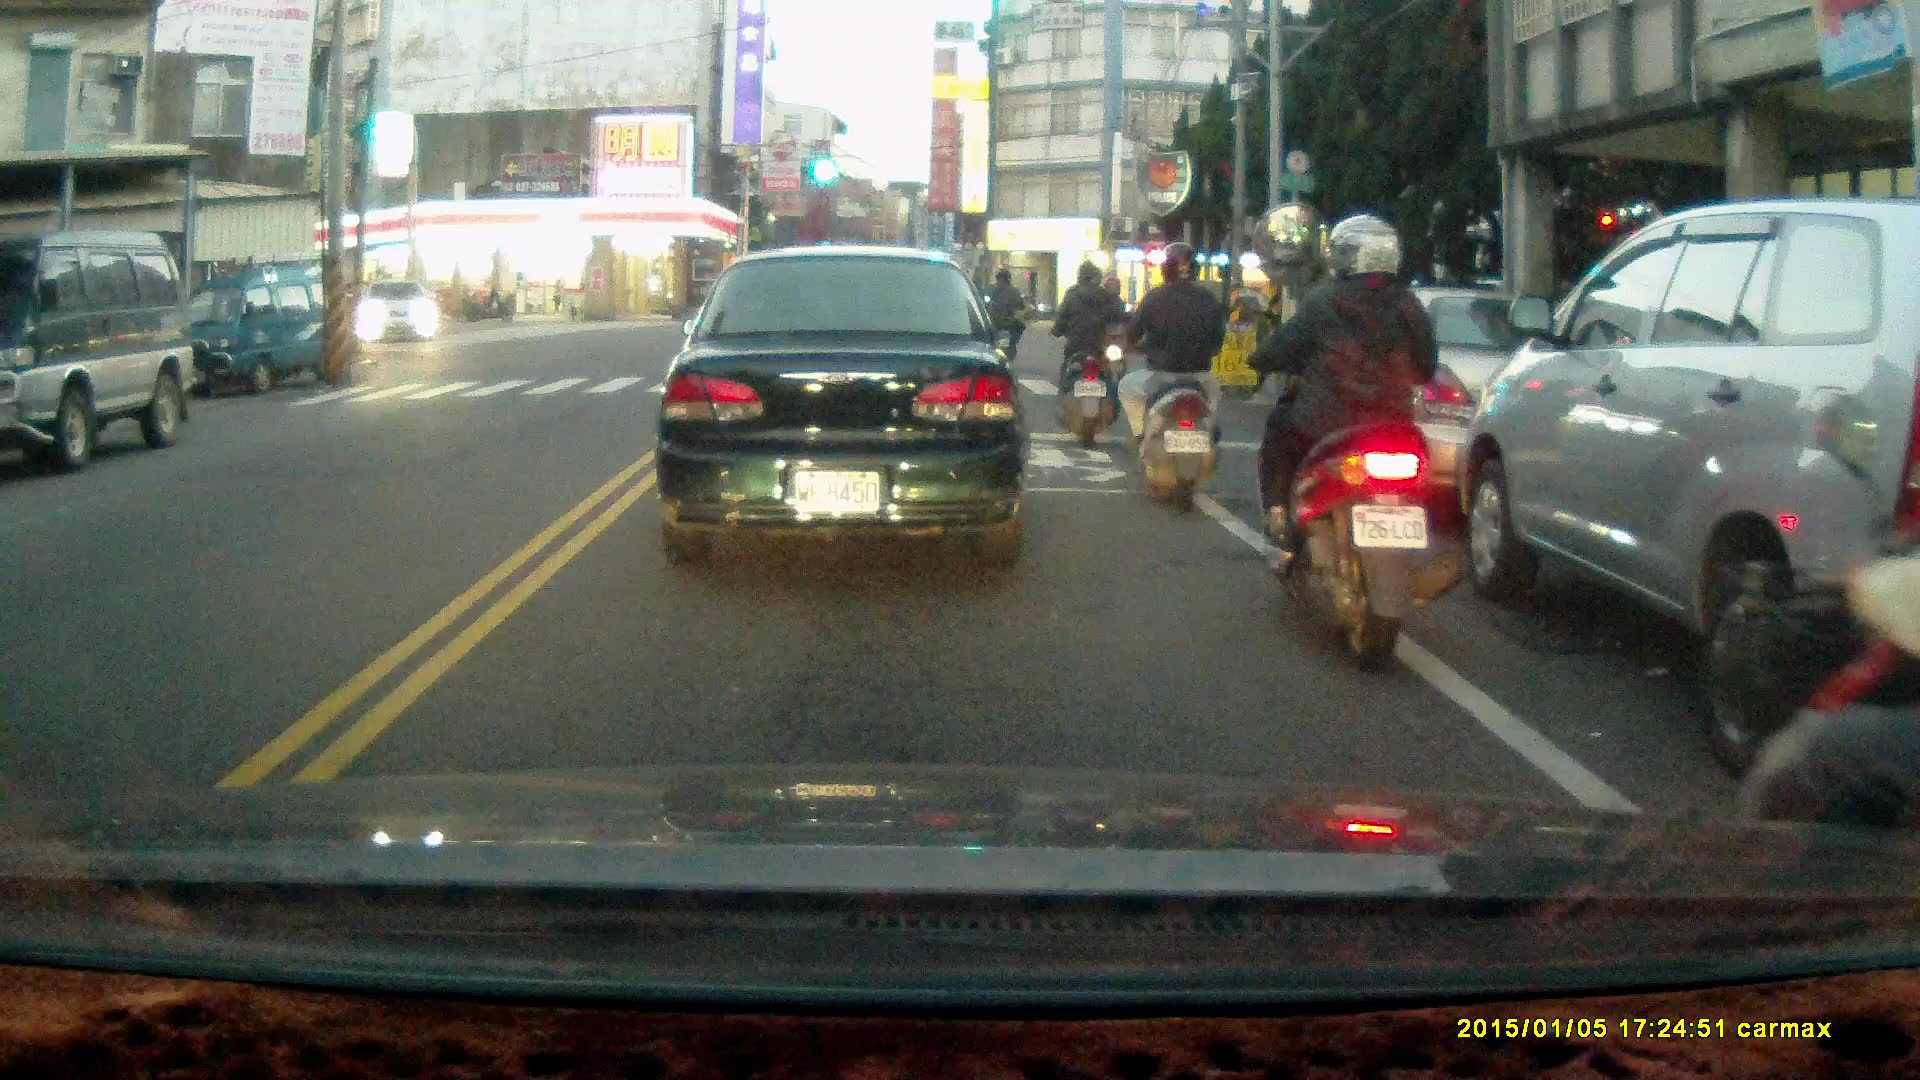rider: (1243, 212, 1469, 679), (1709, 389, 1920, 869), (1100, 244, 1231, 512), (1033, 262, 1122, 447), (980, 267, 1025, 368)
vehicle: (1442, 195, 1920, 775), (655, 245, 1031, 575), (1, 234, 190, 464), (168, 263, 350, 402), (361, 280, 443, 347)
